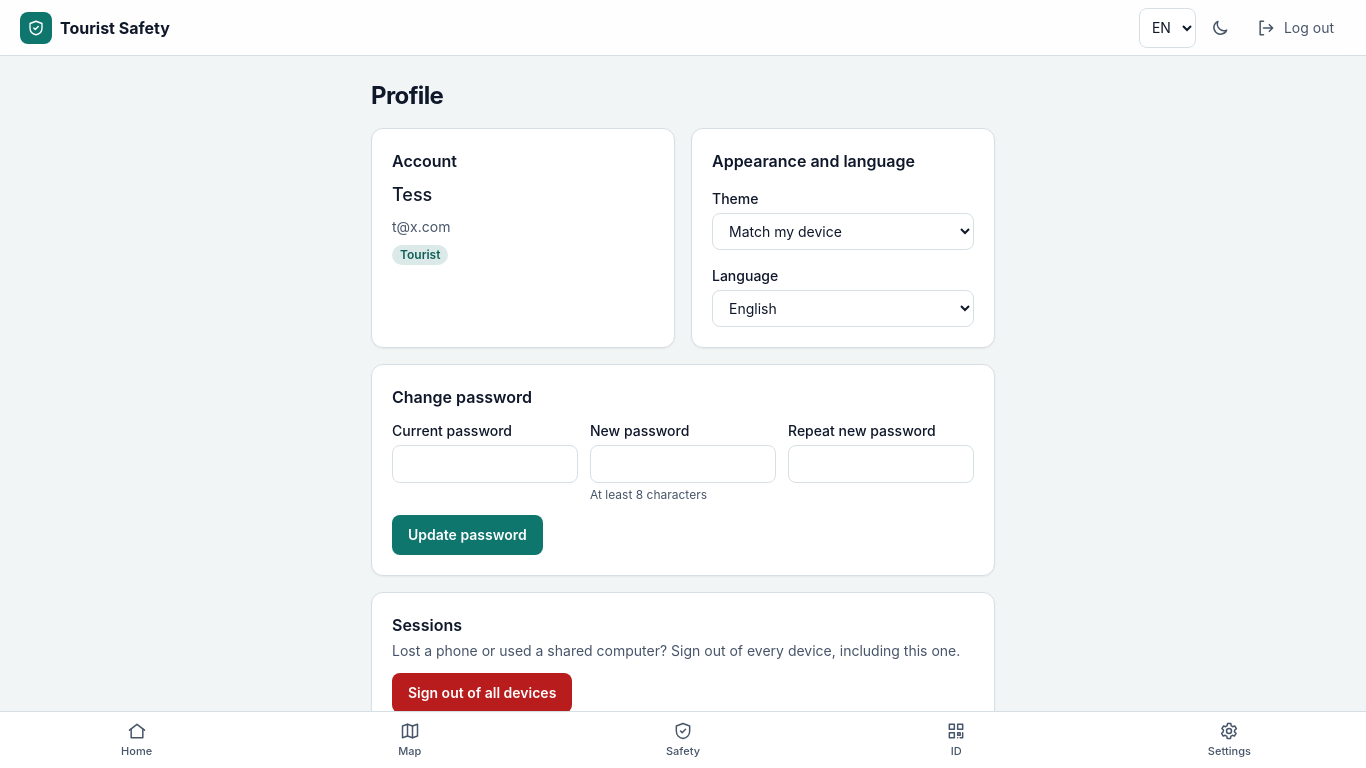
Test: successful change stores the fresh token and clears the form
In the password field labelled "Current password": point(485, 464) [392,445,578,483], type "password123"
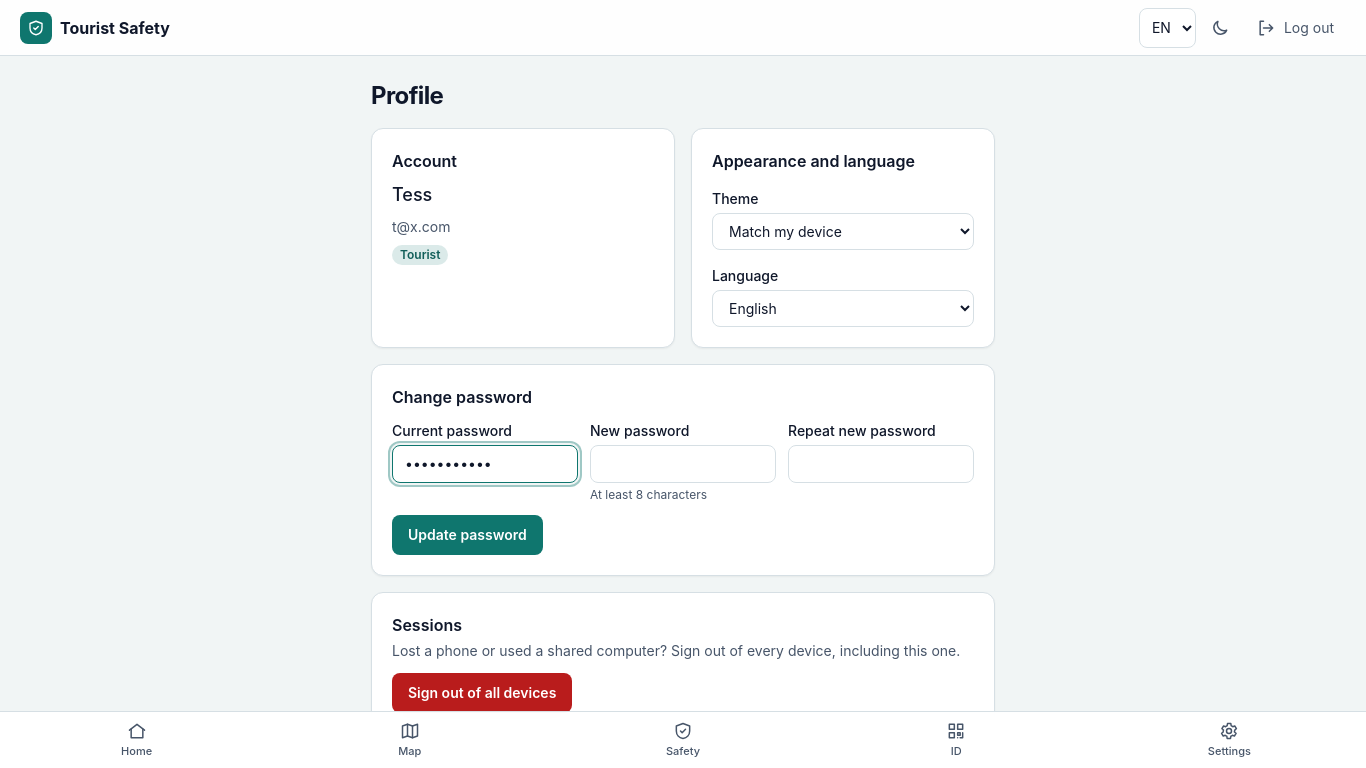
In the password field labelled "New password": point(683, 464) [590,445,776,483], type "newpassword1"
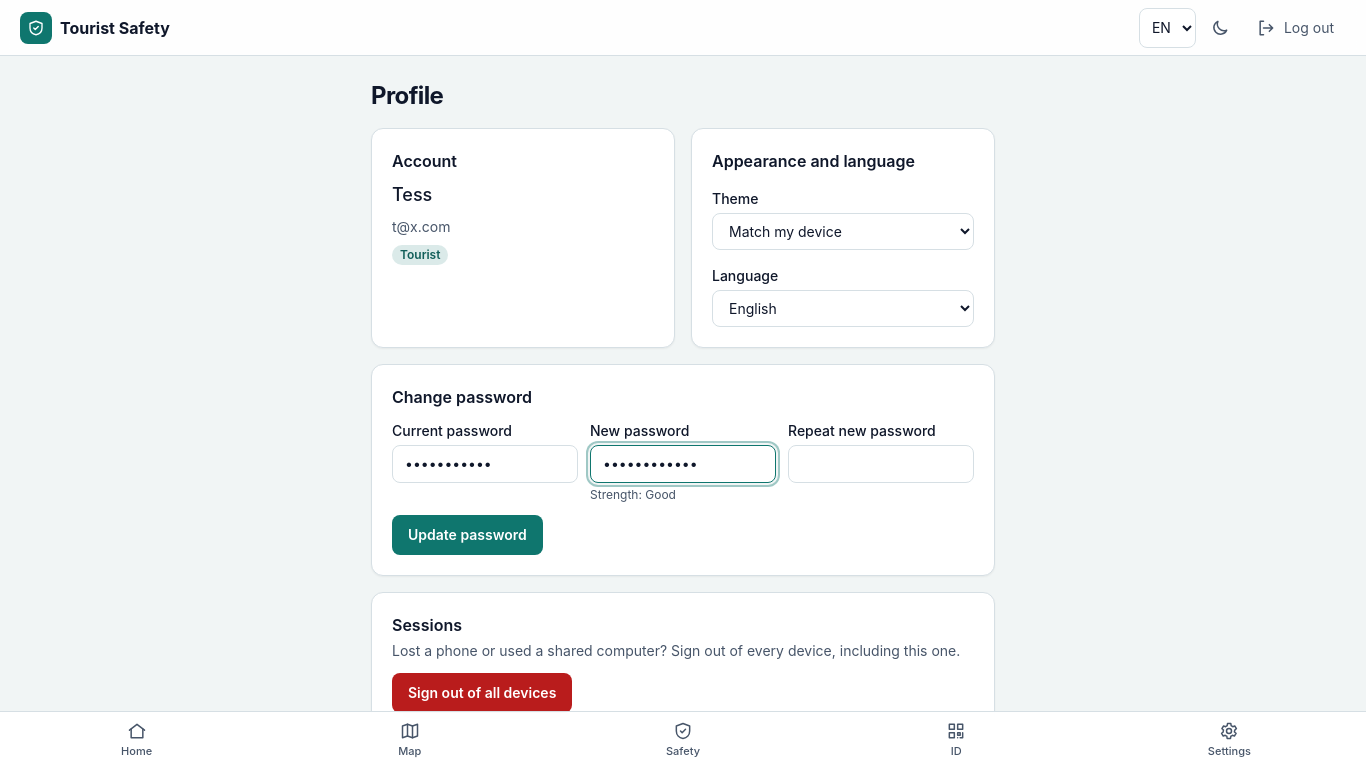
In the password field labelled "Repeat new password": point(881, 464) [788,445,974,483], type "newpassword1"
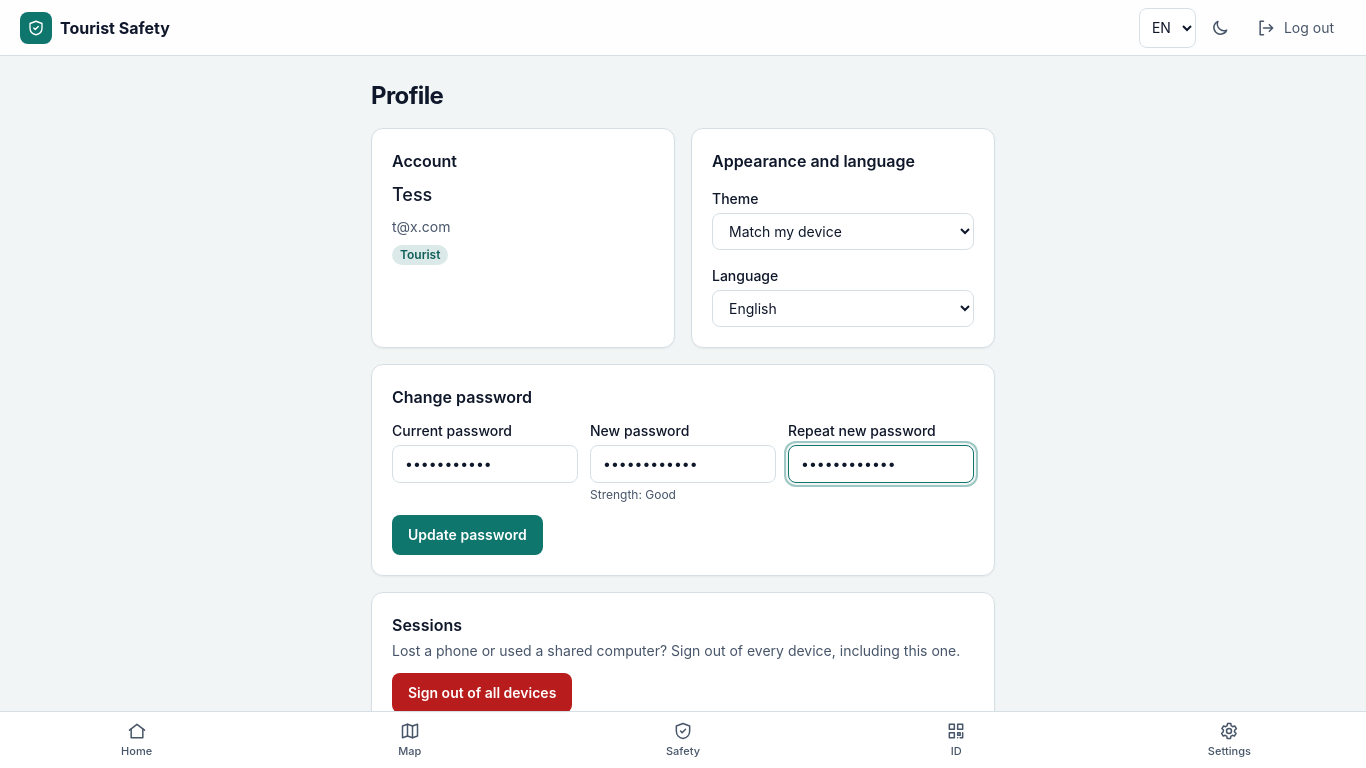
Click the button "Update password": point(467, 535) [392,515,543,555]
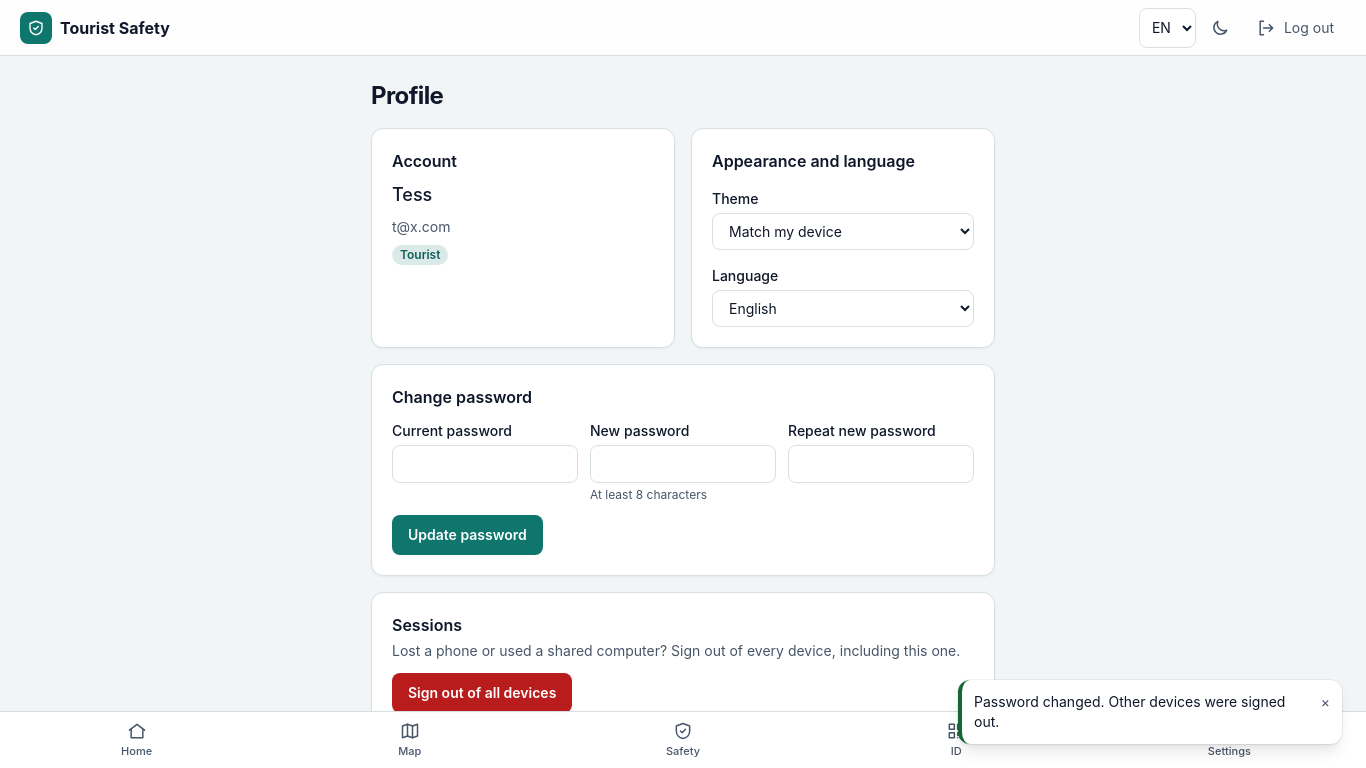
Now the text "Password changed. Other devices were signed out." is shown, box [974,692,1309,732]
Now the password field labelled "Current password" is empty, box [392,445,578,483]
